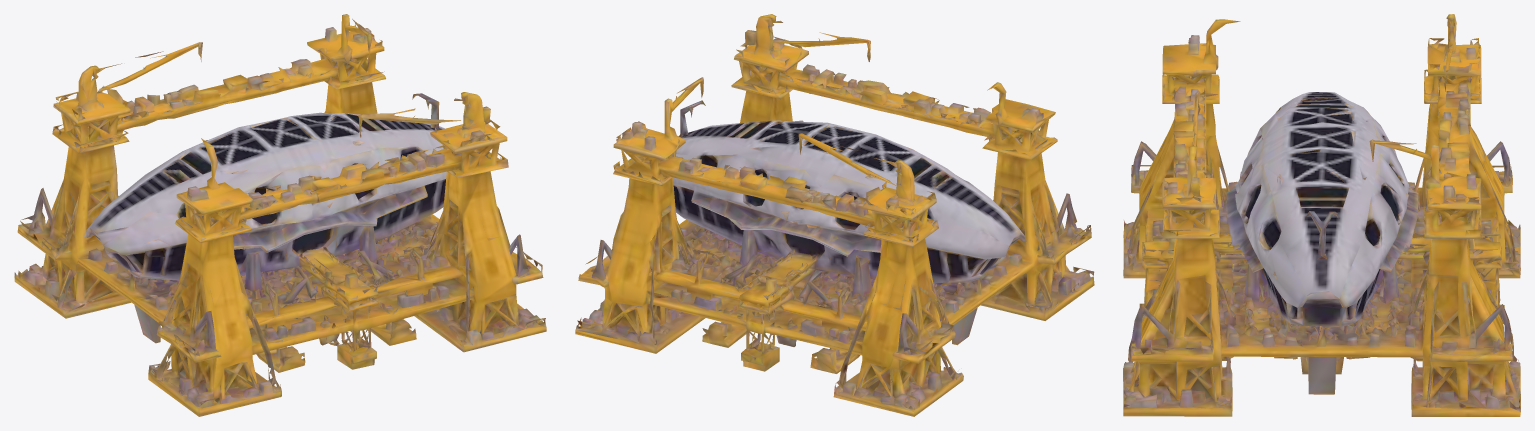
File: shipyard-MpOKoVL0.glb
The picture shows the model from 3 angles, left to right: view 1: azimuth 30°, elevation 25°; view 2: azimuth 150°, elevation 25°; view 3: azimuth 270°, elevation 25°; orthographic projection. The views are drawn at different scales.
Visible parts, largest first — view 1: Mesh_0; view 2: Mesh_0; view 3: Mesh_0.
Part boxes in pixels (x1,y1,x2,y2): Mesh_0: [14, 14, 546, 416]; Mesh_0: [575, 14, 1094, 416]; Mesh_0: [1123, 14, 1520, 416].
Size of the model in its own units: 1.91 by 1.12 by 1.64.
Materials: 1 (1 with a texture image).
